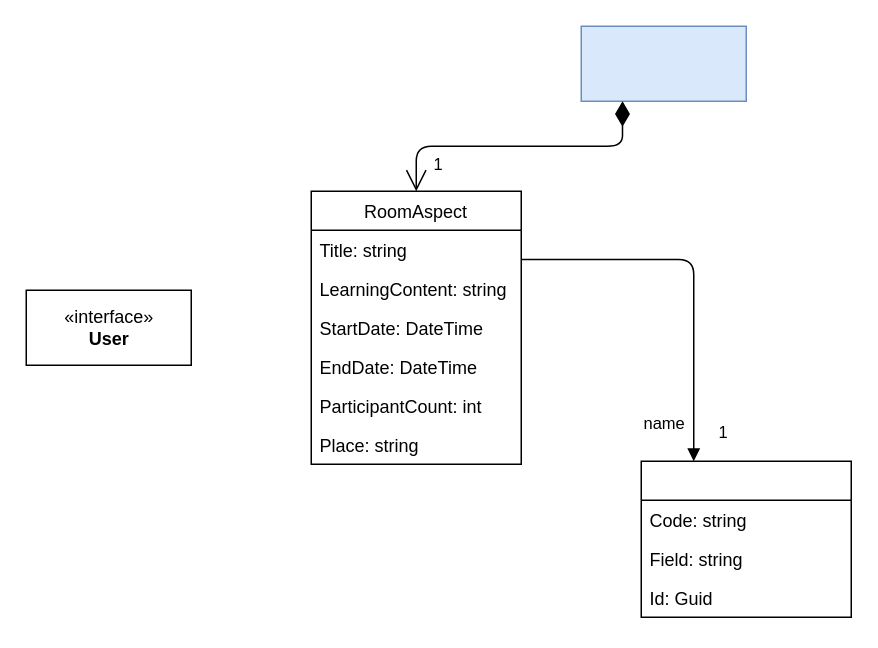
This 878x648 diagram has some shape labels left out. The shapes that lost their labels are listed below. From the top down, each one's box as (x1, y1, x2, y2) in pixels, then its label:
(580, 25, 746, 101): LearningRoom
(640, 460, 851, 617): Reference
